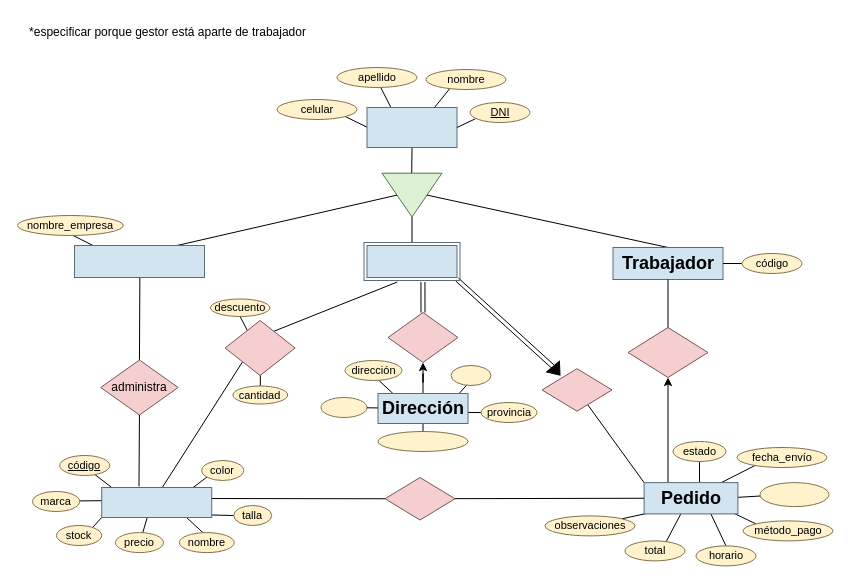
This 851x583 diagram has some shape labels left out. Each missing label, with the centre of its shape:
"Cliente" goes at pixel 411 261.
"compra" goes at pixel 259 348.
"contiene" goes at pixel 419 498.
"departamento" goes at pixel 422 441.
"distrito" goes at pixel 343 407.
"Gestor de BD" goes at pixel 139 261.
"hace" goes at pixel 576 389.
"ID" goes at pixel 470 375.
"ID_venta" goes at pixel 794 494.
"IsA" goes at pixel 411 194.
"Persona" goes at pixel 411 127.
"Producto" goes at pixel 156 502.
"registra" goes at pixel 667 352.
"tiene" goes at pixel 422 337.
